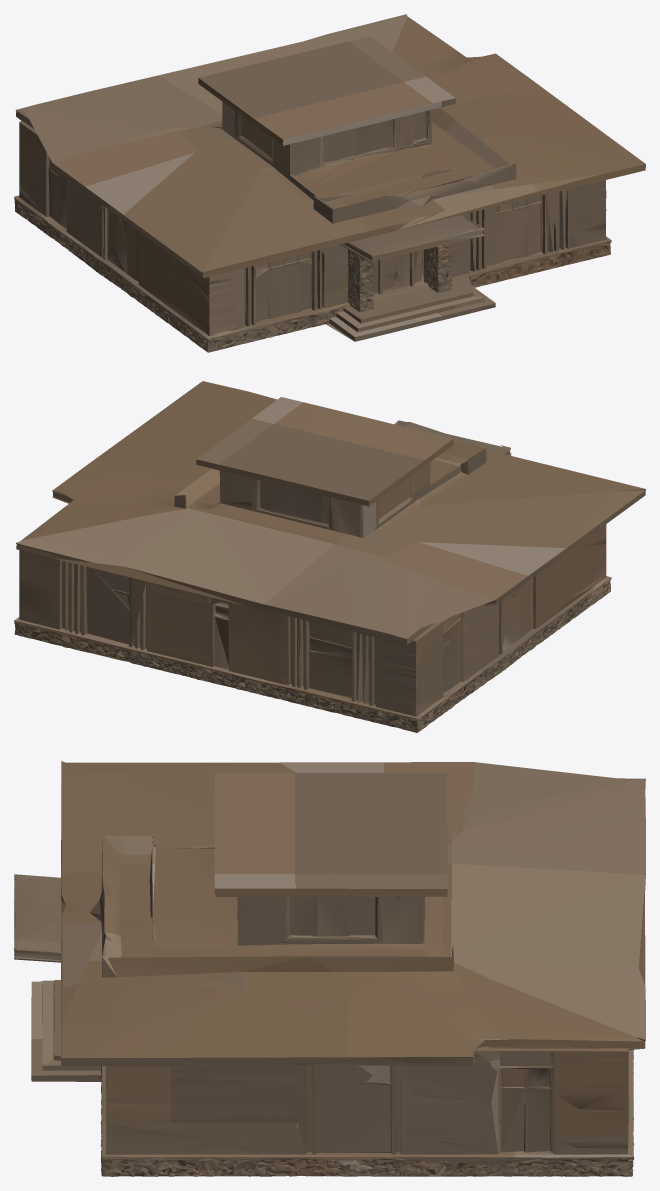
Rendered from clubhouse.glb.
The picture shows the model from 3 angles, top to bottom: view 1: azimuth 30°, elevation 25°; view 2: azimuth 150°, elevation 25°; view 3: azimuth 270°, elevation 25°; orthographic projection. The views are drawn at different scales.
Parts seen in each view (by area): view 1: LO; view 2: LO; view 3: LO.
Part boxes in pixels (x1,y1,x2,y2): LO: [14, 14, 645, 352]; LO: [14, 381, 645, 732]; LO: [14, 761, 645, 1176].
Bounding box in the file's own units: 29.34 × 9.78 × 26.4.
Materials: 1 (1 with a texture image).
